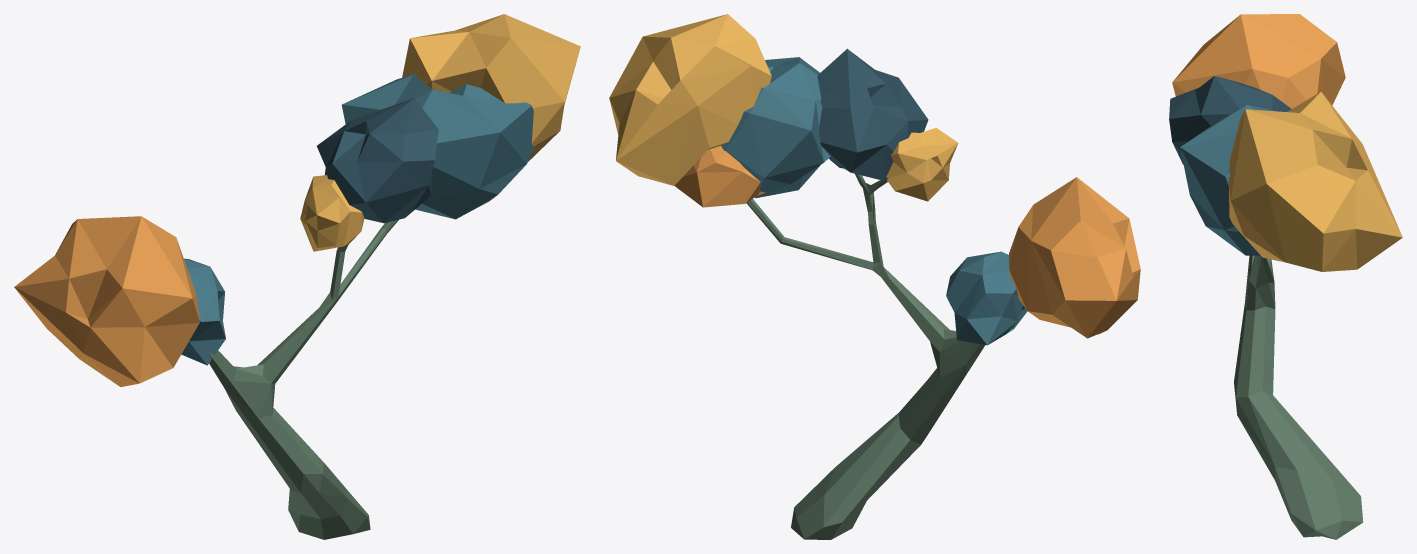
The model's file is tree.fbx.
3 renders of one model, left to right at view 1: azimuth 30°, elevation 25°; view 2: azimuth 150°, elevation 25°; view 3: azimuth 270°, elevation 25°, orthographic. The views are drawn at different scales.
Visible parts, largest first — view 1: Icosphere.005, Icosphere, Cube, Icosphere.001, Icosphere.003, Icosphere.004, Icosphere.006; view 2: Icosphere.001, Icosphere.005, Cube, Icosphere.003, Icosphere, Icosphere.006, Icosphere.004, Icosphere.002; view 3: Icosphere.001, Cube, Icosphere.005, Icosphere, Icosphere.003.
Boxes of the visible parts, <box> form: Icosphere.005: <box>14,216,199,386</box>; Icosphere: <box>341,74,534,219</box>; Cube: <box>205,219,398,539</box>; Icosphere.001: <box>402,14,580,161</box>; Icosphere.003: <box>317,98,438,223</box>; Icosphere.004: <box>300,175,364,251</box>; Icosphere.006: <box>181,258,225,365</box>; Icosphere.001: <box>609,14,771,185</box>; Icosphere.005: <box>1009,177,1140,338</box>; Cube: <box>746,174,984,539</box>; Icosphere.003: <box>817,48,928,180</box>; Icosphere: <box>721,57,830,198</box>; Icosphere.006: <box>946,251,1027,345</box>; Icosphere.004: <box>887,128,958,201</box>; Icosphere.002: <box>675,146,765,207</box>; Icosphere.001: <box>1228,92,1402,271</box>; Cube: <box>1234,255,1363,539</box>; Icosphere.005: <box>1172,14,1345,108</box>; Icosphere: <box>1180,104,1275,255</box>; Icosphere.003: <box>1169,76,1291,164</box>.
Bounding box in the file's own units: 772 × 667 × 289.
